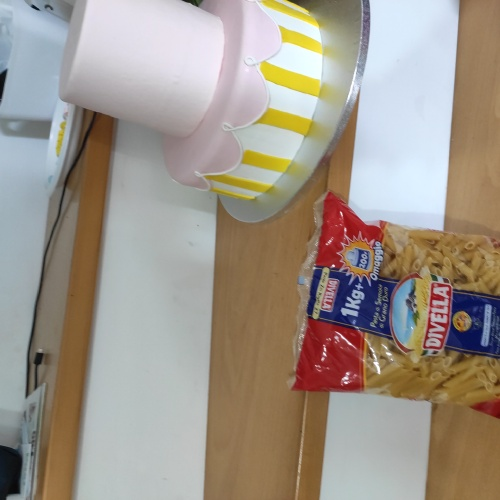pasta: (308, 220, 486, 413)
